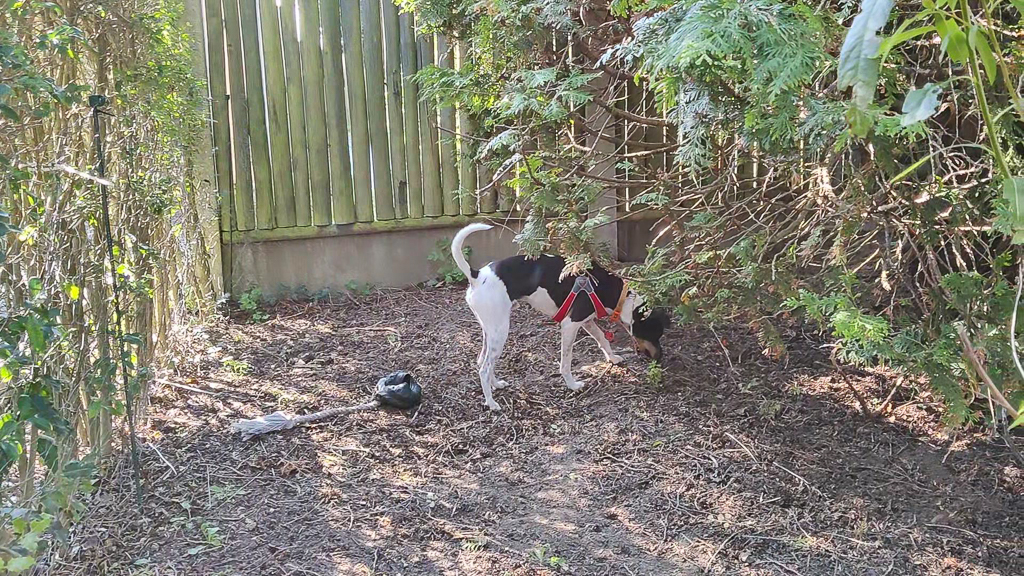Dog: (441, 213, 684, 422)
